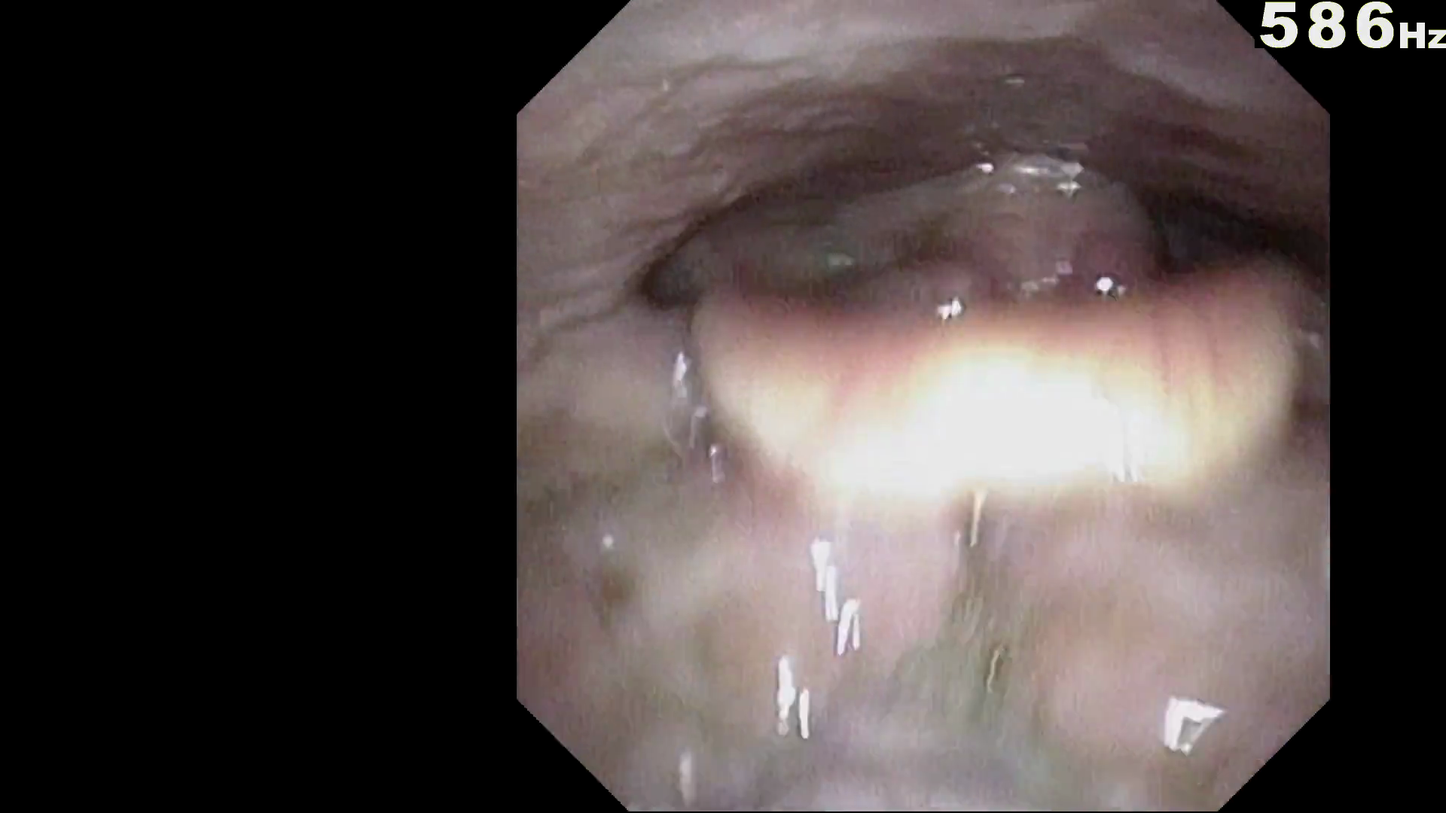epiglottis: (735, 445, 1279, 650)
trachea: (971, 360, 1067, 490)
